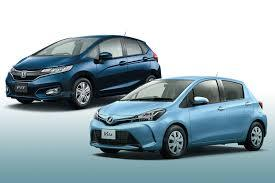windshield: (120, 78, 199, 104), (31, 36, 106, 55)
